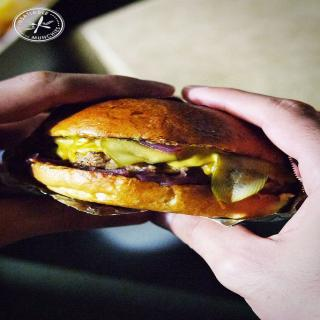Hamburger: (25, 99, 294, 220)
